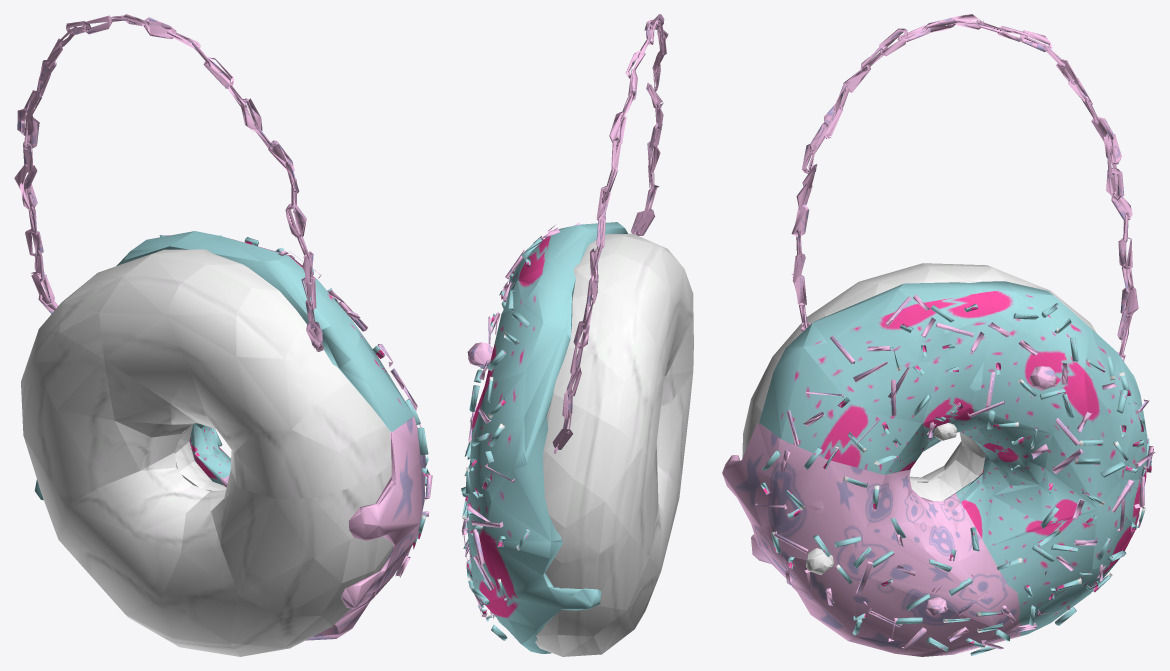
File: The Sweet Tooth.obj
The picture shows the model from 3 angles, left to right: view 1: azimuth 30°, elevation 25°; view 2: azimuth 150°, elevation 25°; view 3: azimuth 270°, elevation 25°; orthographic projection. The views are drawn at different scales.
Parts seen in each view (by area): view 1: sweet_tooth; view 2: sweet_tooth; view 3: sweet_tooth.
Part boxes in pixels (x1=…): sweet_tooth: x1=14, y1=14, x2=432, y2=656; sweet_tooth: x1=461, y1=14, x2=693, y2=656; sweet_tooth: x1=722, y1=14, x2=1155, y2=656.
Size of the model in its own units: 0.7986 by 1.93 by 1.28.
